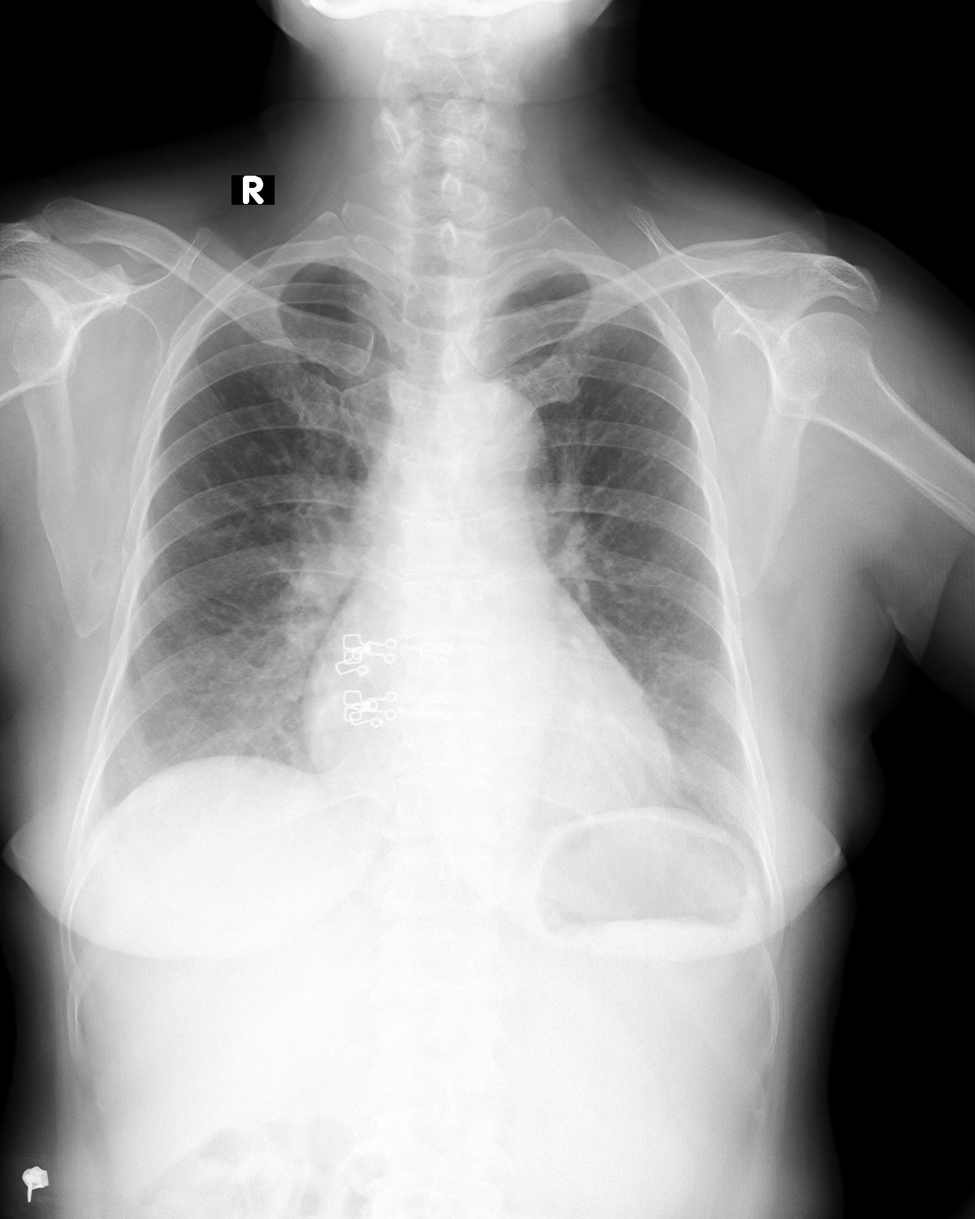Aortic enlargement: (442, 387, 551, 510)
